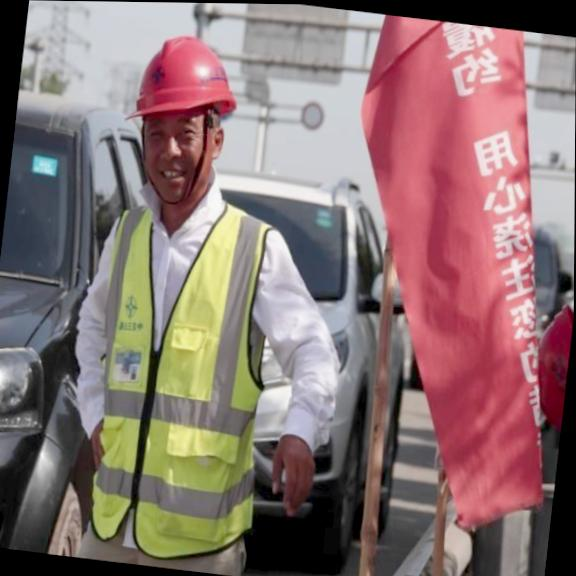safety_vest: (50, 166, 366, 560)
